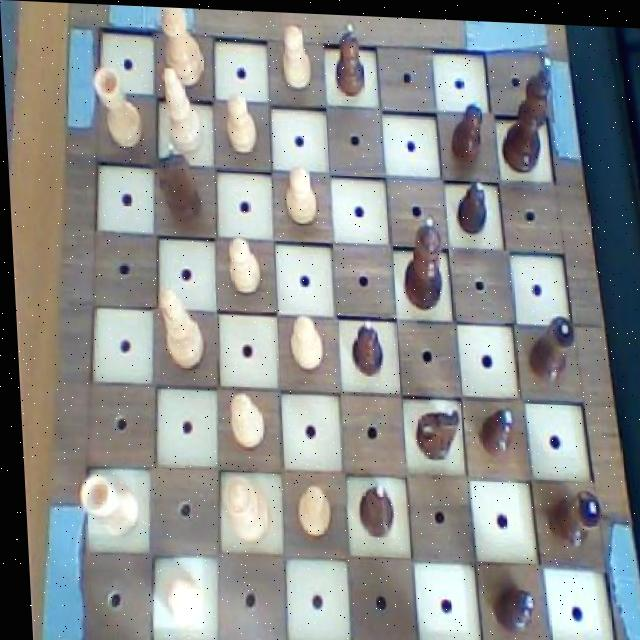bishop: (348, 473, 394, 536)
black-bishop: (490, 50, 559, 175)
black-king: (148, 139, 205, 228), (407, 395, 458, 466)
black-knight: (328, 17, 372, 96), (483, 573, 536, 636), (443, 89, 486, 162), (472, 394, 515, 457), (449, 171, 489, 236), (345, 310, 384, 375)
black-pawn: (396, 209, 444, 312)
black-queen: (518, 305, 576, 382), (537, 476, 599, 547)
black-rook: (156, 61, 207, 156), (153, 282, 205, 375)
white-bishop: (154, 5, 211, 90)
white-knight: (273, 17, 315, 91), (285, 477, 332, 540), (220, 385, 264, 452), (152, 571, 201, 631), (281, 308, 325, 374), (220, 86, 258, 160), (280, 162, 318, 226), (223, 232, 262, 292)
white-pawn: (213, 470, 268, 543)
white-queen: (88, 63, 145, 152), (69, 468, 136, 543)
